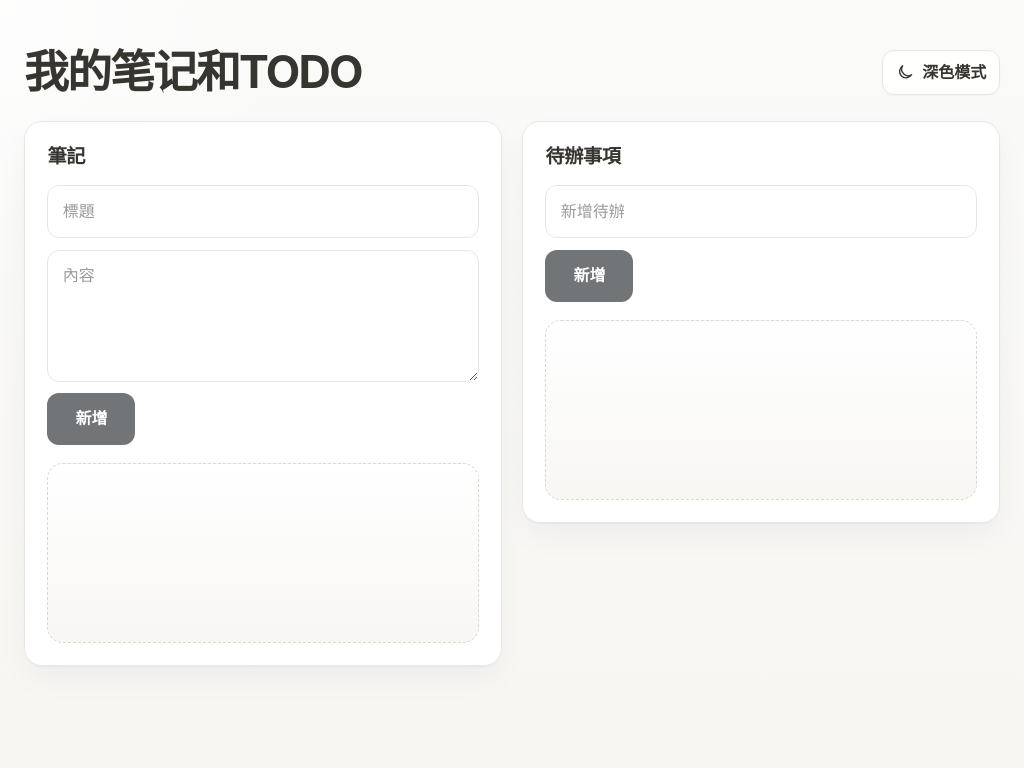
Scenario: HomeClient interactions › creates an action item with the in-memory API fake
Type "整理 writeup" into the field named "待辦描述".
click(761, 212); type("整理 writeup")  # box [545, 185, 977, 238]
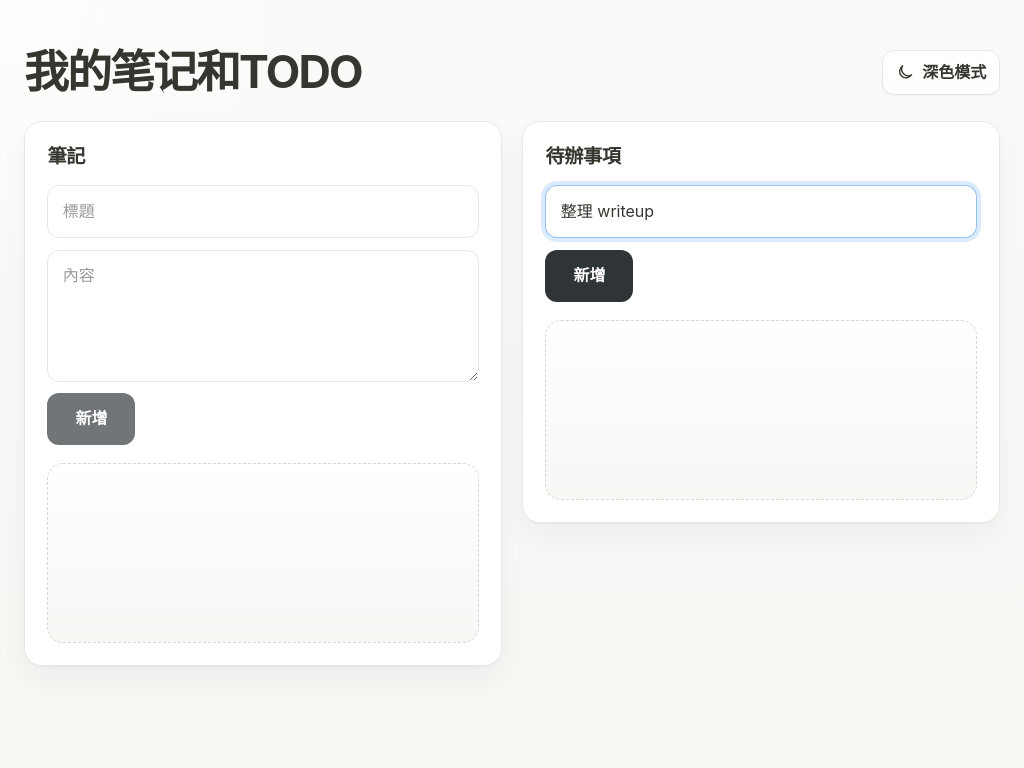
Click the button with aria-label "新增待辦".
click(589, 276)  # box [545, 250, 633, 302]
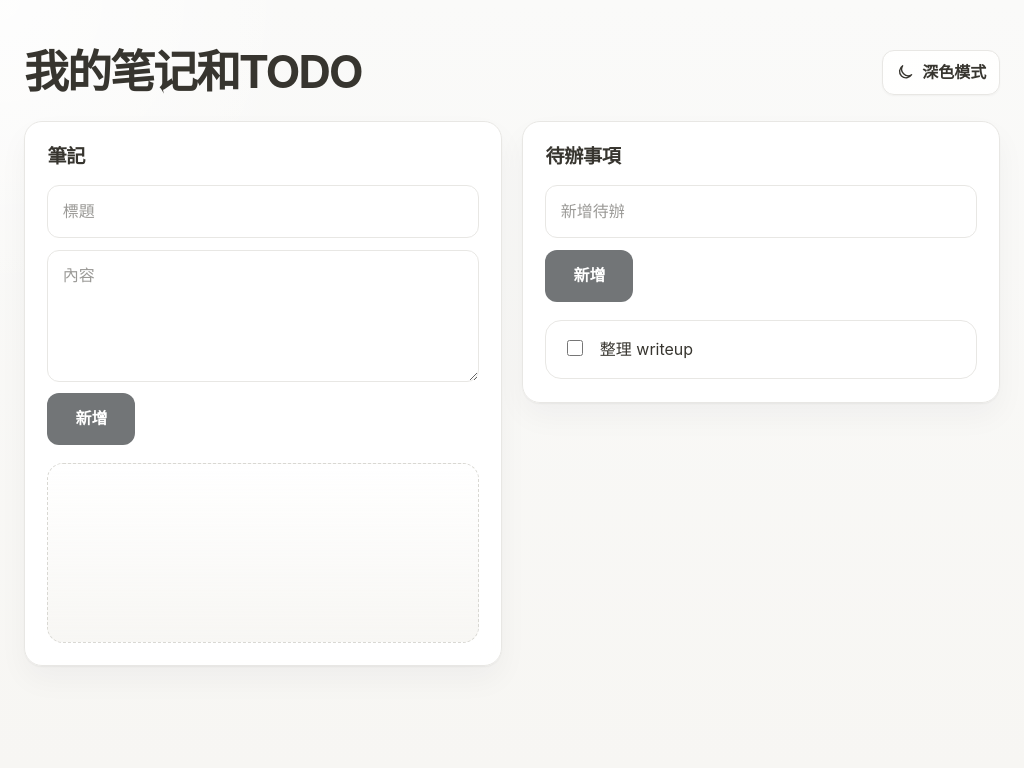
Result: the text "整理 writeup" is shown at [600, 339, 693, 359]
